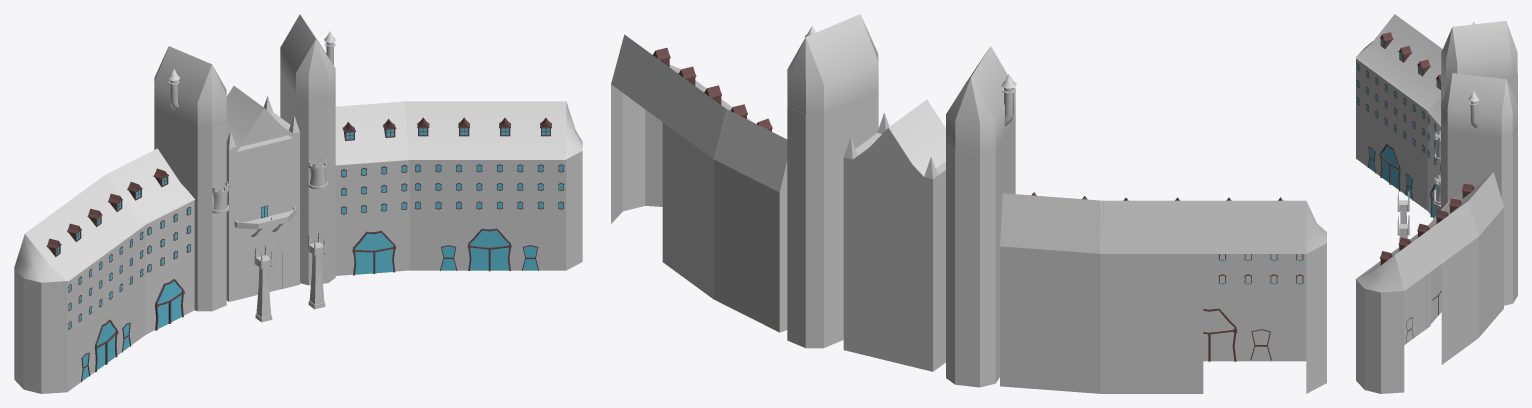
Rendered from CastleModel.FBX.
3 renders of one model, left to right at view 1: azimuth 30°, elevation 25°; view 2: azimuth 150°, elevation 25°; view 3: azimuth 270°, elevation 25°, orthographic. The views are drawn at different scales.
Parts seen in each view (by area): view 1: Castle_building3&4_wall_front&back3, Castle_building2_wall_front&back, Castle_building3&4_wall_front&back2, Castle_building3&4_wall_front&back, Castle_building1_wall_front, Castle_building_wall_expansion, Castle_building3&4_top_normal2, Castle_building3&4_top_normal, Castle_building3&4_top_normal1, Castle_building2_top_front&back, Castle_building1_top, Castel_building2_wall_sides (+14 smaller); view 2: Castle_building3&4_wall_front&back1, Castle_building3&4_wall_front&back4, Castle_building2_wall_front&back1, Castle_building1_wall_back, Castle_building3&4_wall_front&back3, Castle_building3&4_top_normal, Castle_building3&4_top_normal2, Castle_building3&4_top_normal1, Castle_building_wall_expansion, Castel_building2_wall_sides1, Castle_building1_top, Castle_building2_top_front&back1 (+6 smaller); view 3: Castle_building_wall_expansion, Castle_building3&4_wall_front&back2, Castle_building3&4_top_normal2, Castle_building3&4_wall_front&back4, Castle_building3&4_top_normal1, Castle_building3&4_wall_front&back3, Castle_building2_top_sides, Castle_building2_top_sides1, Castel_building2_wall_sides, Castle_building2_wall_front&back1, Castle_building3&4_wall_front&back1, Castle_building3&4_top_normal (+17 smaller).
Part boxes in pixels (<box>): Castle_building3&4_wall_front&back3: <box>67,160,566,391</box>; Castle_building2_wall_front&back: <box>197,92,335,311</box>; Castle_building3&4_wall_front&back2: <box>108,160,484,355</box>; Castle_building3&4_wall_front&back: <box>146,160,409,334</box>; Castle_building1_wall_front: <box>229,136,299,301</box>; Castle_building_wall_expansion: <box>14,151,582,393</box>; Castle_building3&4_top_normal2: <box>25,101,566,281</box>; Castle_building3&4_top_normal: <box>105,101,409,223</box>; Castle_building3&4_top_normal1: <box>66,101,484,251</box>; Castle_building2_top_front&back: <box>197,39,335,125</box>; Castle_building1_top: <box>226,86,299,153</box>; Castel_building2_wall_sides: <box>154,97,327,311</box>; Castle_building3&4_wall_front&back1: <box>714,159,1100,393</box>; Castle_building3&4_wall_front&back4: <box>662,122,1203,393</box>; Castle_building2_wall_front&back1: <box>787,107,995,387</box>; Castle_building1_wall_back: <box>843,163,932,371</box>; Castle_building3&4_wall_front&back3: <box>1203,254,1306,361</box>; Castle_building3&4_top_normal: <box>714,108,1103,253</box>; Castle_building3&4_top_normal2: <box>611,34,1306,253</box>; Castle_building3&4_top_normal1: <box>662,72,1203,253</box>; Castle_building_wall_expansion: <box>611,84,1326,393</box>; Castel_building2_wall_sides1: <box>824,92,963,347</box>; Castle_building1_top: <box>843,99,966,184</box>; Castle_building2_top_front&back1: <box>787,37,995,153</box>; Castle_building_wall_expansion: <box>1356,279,1404,393</box>; Castle_building3&4_wall_front&back2: <box>1393,86,1430,344</box>; Castle_building3&4_top_normal2: <box>1355,14,1441,290</box>; Castle_building3&4_wall_front&back4: <box>1441,237,1478,364</box>; Castle_building3&4_top_normal1: <box>1393,41,1478,263</box>; Castle_building3&4_wall_front&back3: <box>1356,58,1393,176</box>; Castle_building2_top_sides: <box>1447,73,1506,137</box>; Castle_building2_top_sides1: <box>1452,21,1511,79</box>; Castel_building2_wall_sides: <box>1447,131,1501,201</box>; Castle_building2_wall_front&back1: <box>1501,74,1517,305</box>; Castle_building3&4_wall_front&back1: <box>1479,207,1503,337</box>; Castle_building3&4_top_normal: <box>1427,99,1503,235</box>.
Size of the model in its own units: 15779 by 6500 by 4363.
